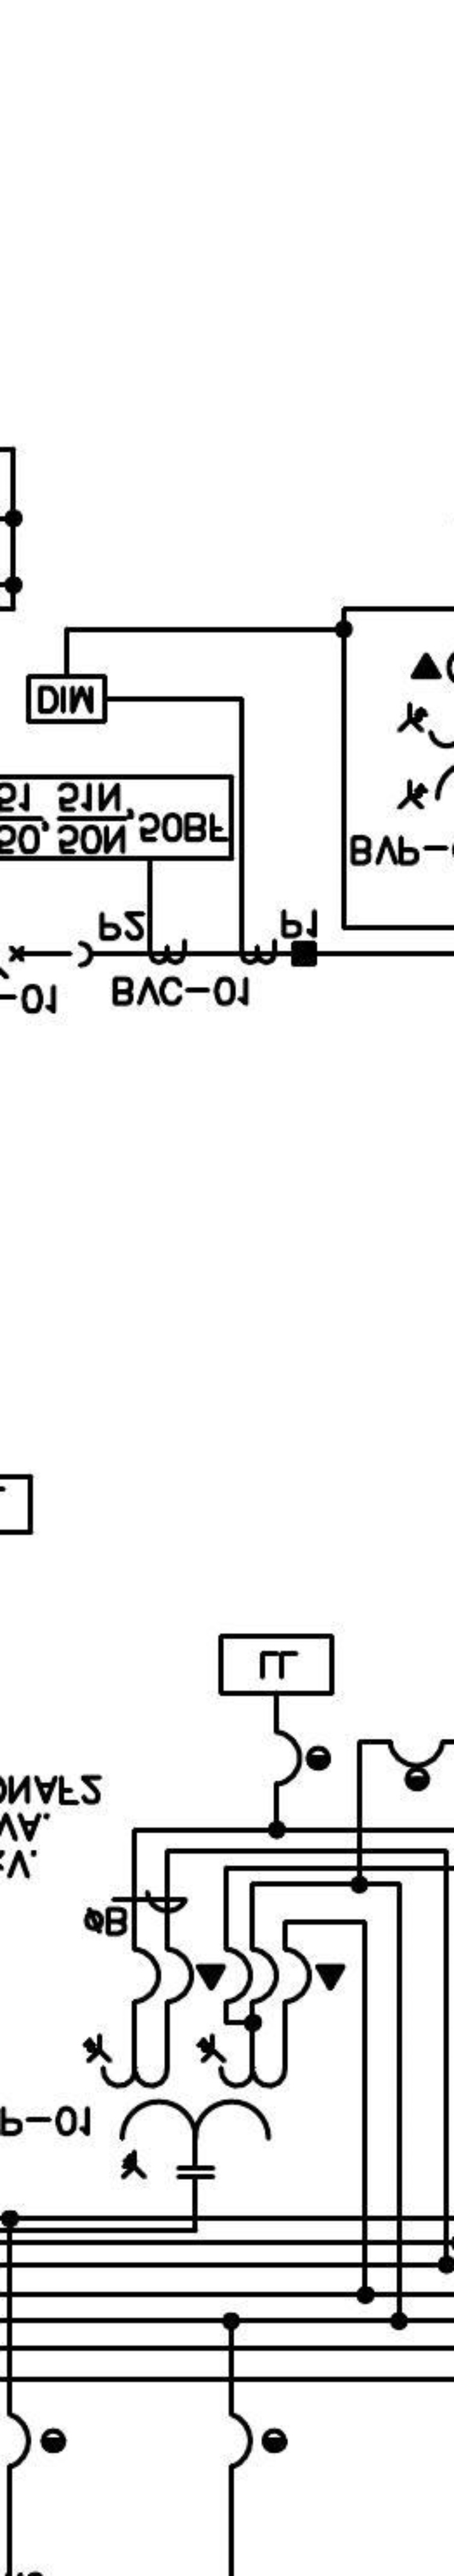115_cvt_3p: (81, 2032, 290, 2180)
DIM: (26, 674, 109, 724)
LL: (219, 1633, 334, 1697)
